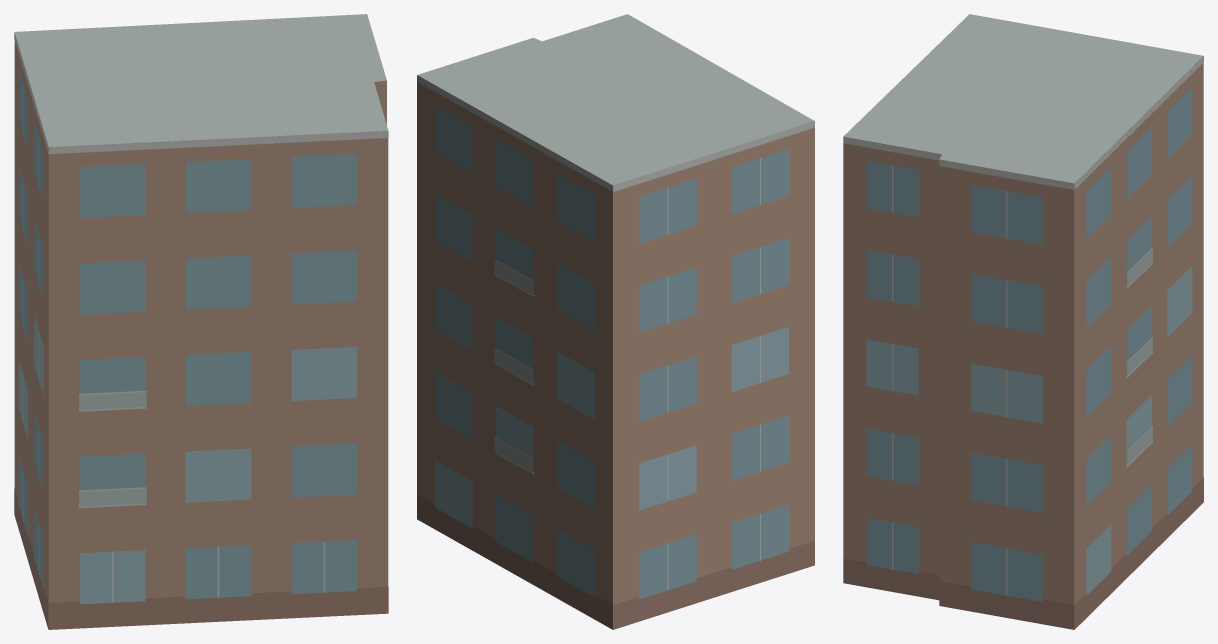
Rendered from survey-upis-32599356.glb.
3 renders of one model, left to right at view 1: azimuth 30°, elevation 25°; view 2: azimuth 150°, elevation 25°; view 3: azimuth 270°, elevation 25°, orthographic. The views are drawn at different scales.
Parts seen in each view (by area): view 1: survey-upis-32599356.tmp; view 2: survey-upis-32599356.tmp; view 3: survey-upis-32599356.tmp.
Part boxes in pixels (x1,y1,x2,y2): survey-upis-32599356.tmp: (14, 14, 388, 629); survey-upis-32599356.tmp: (417, 14, 814, 629); survey-upis-32599356.tmp: (843, 14, 1203, 629).
Size of the model in its own units: 13.4 by 16.45 by 12.05.
